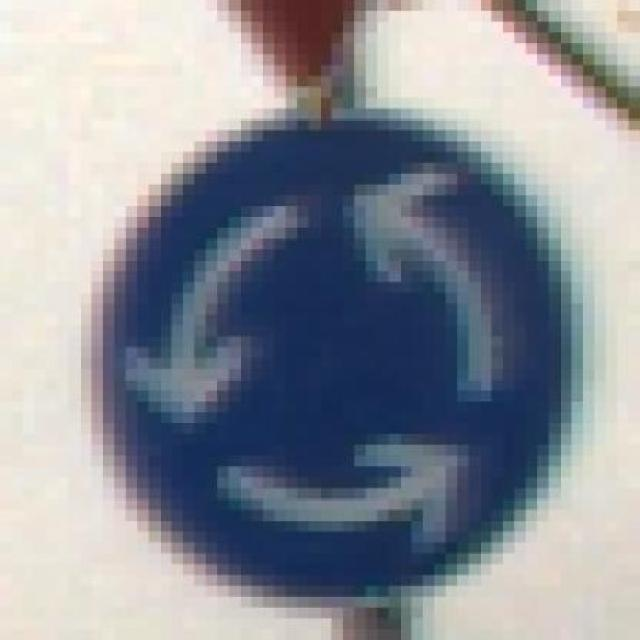Round-About: (57, 75, 617, 597)
